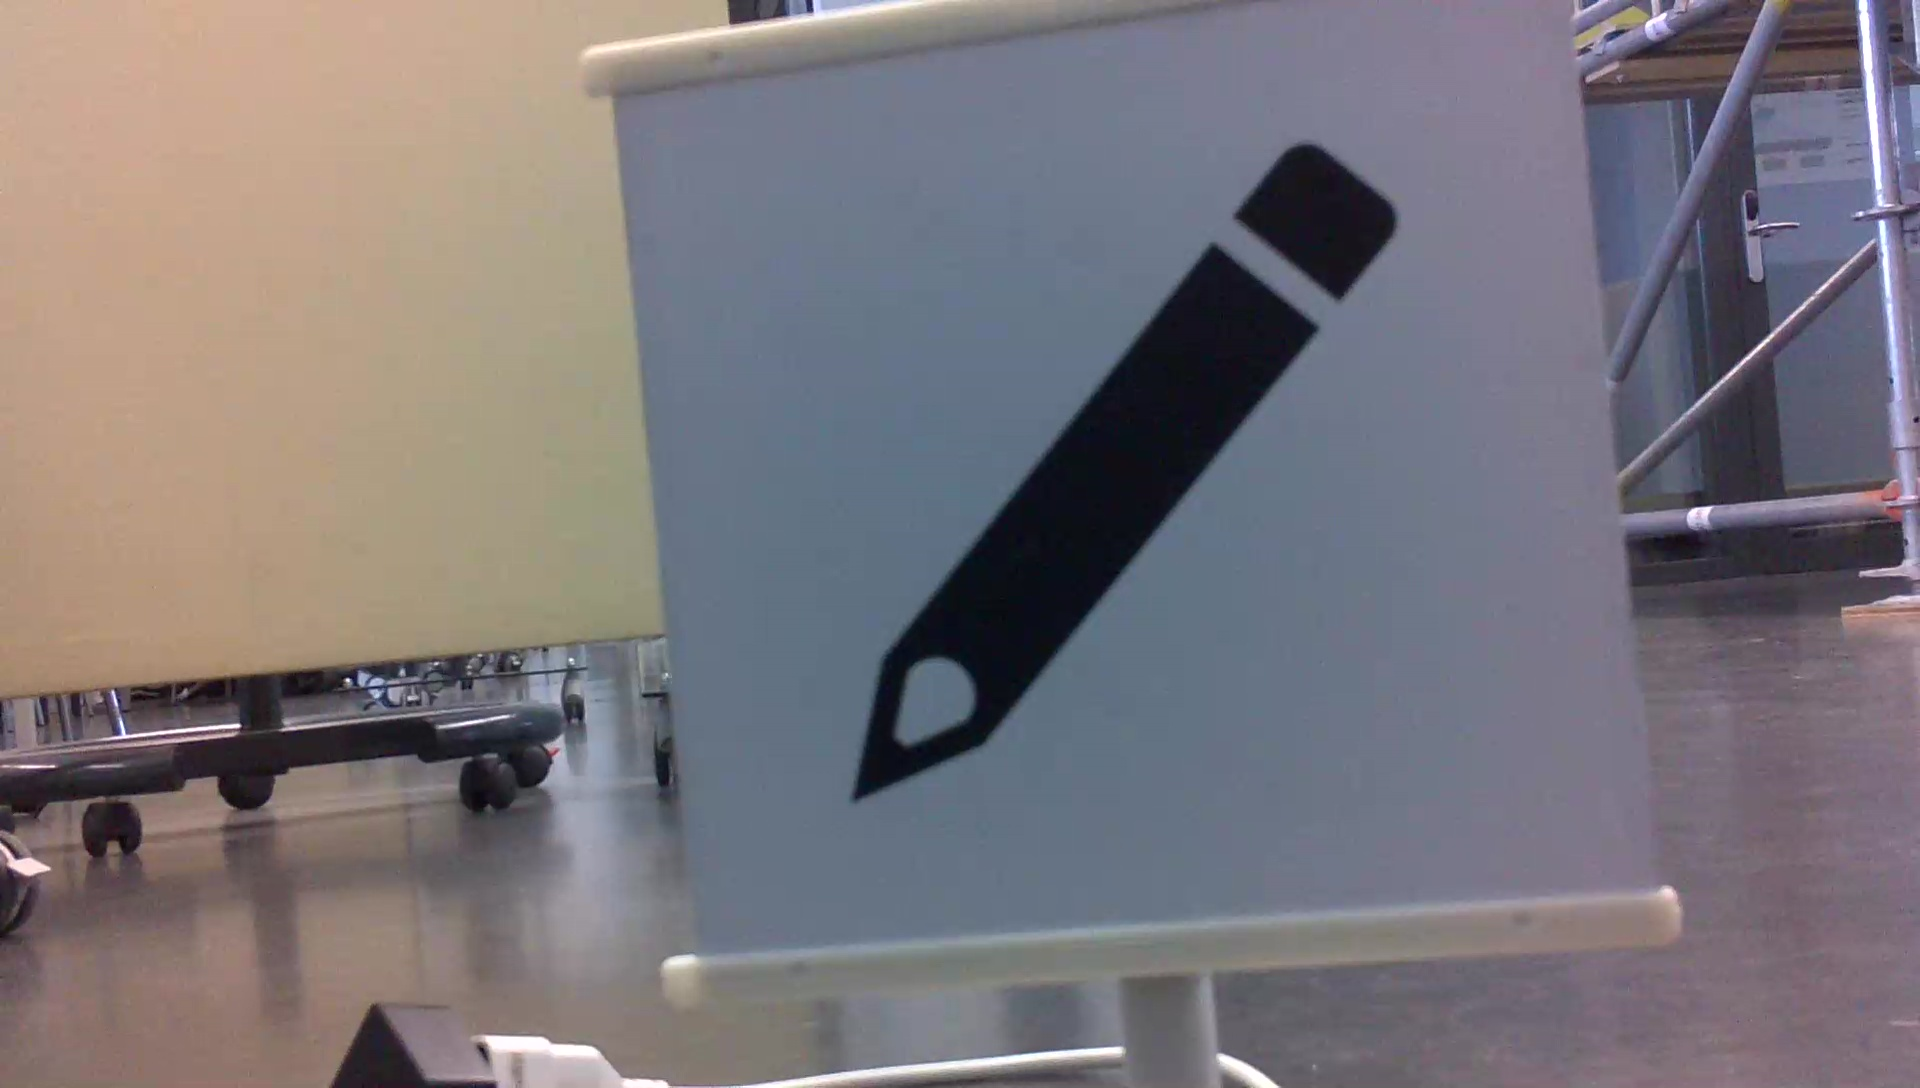pencil: (837, 129, 1414, 816)
